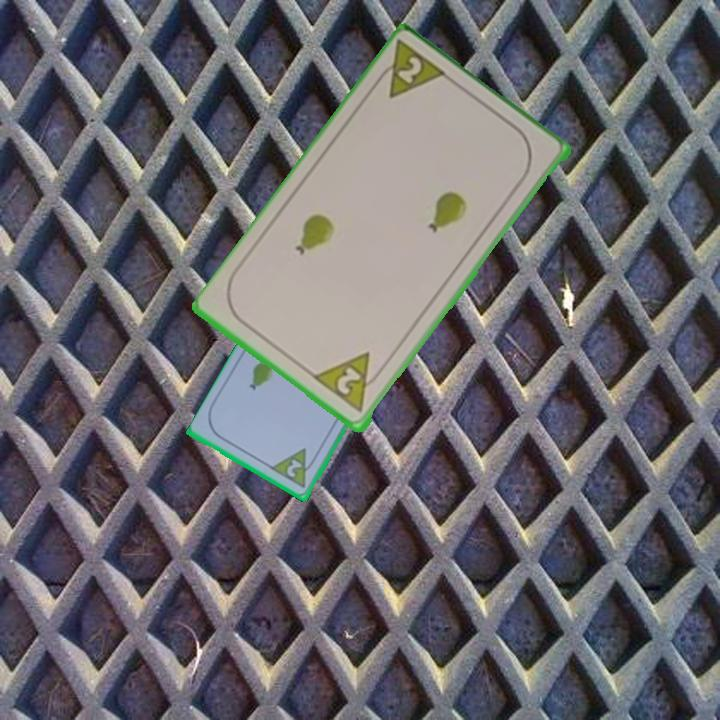2p: (369, 37, 452, 103), (312, 349, 387, 416), (283, 456, 306, 481)
